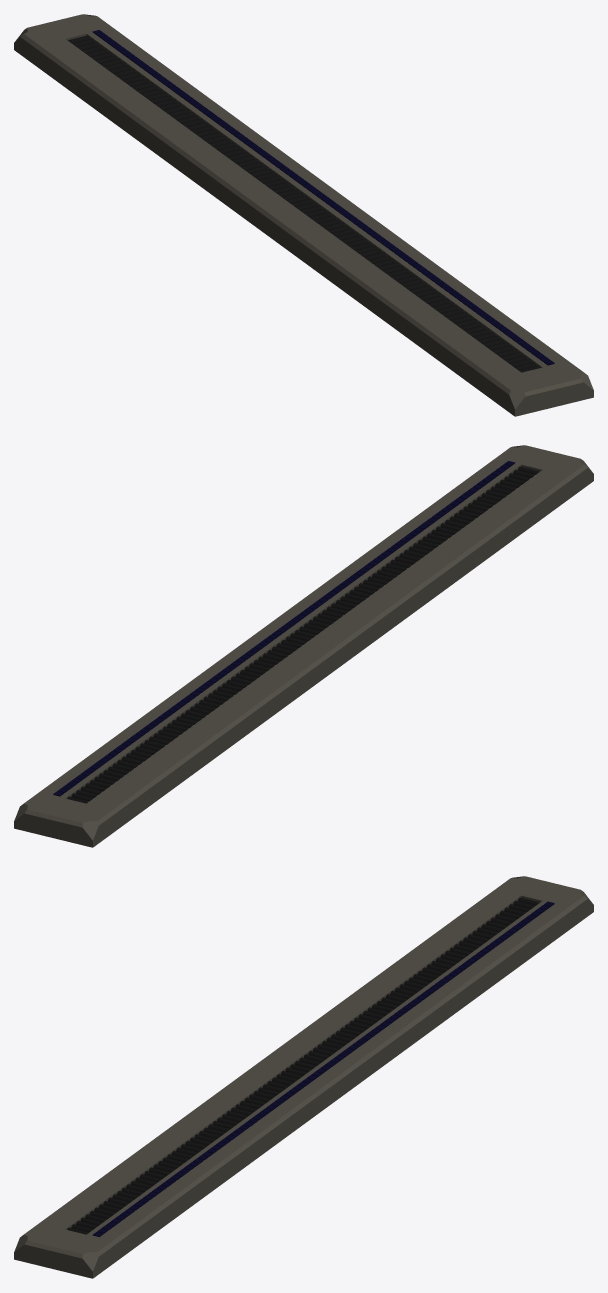
Rendered from battery_voltage.glb.
3 views of the same model, one above another, from view 1: azimuth 30°, elevation 25°; view 2: azimuth 150°, elevation 25°; view 3: azimuth 330°, elevation 25° (orthographic).
Visible parts, largest first — view 1: box; view 2: box; view 3: box.
Part boxes in pixels (x1=…): box: x1=14, y1=14, x2=593, y2=416; box: x1=14, y1=445, x2=593, y2=847; box: x1=14, y1=876, x2=593, y2=1278.
Size of the model in its own units: 0.2 by 0.0526 by 2.2.
